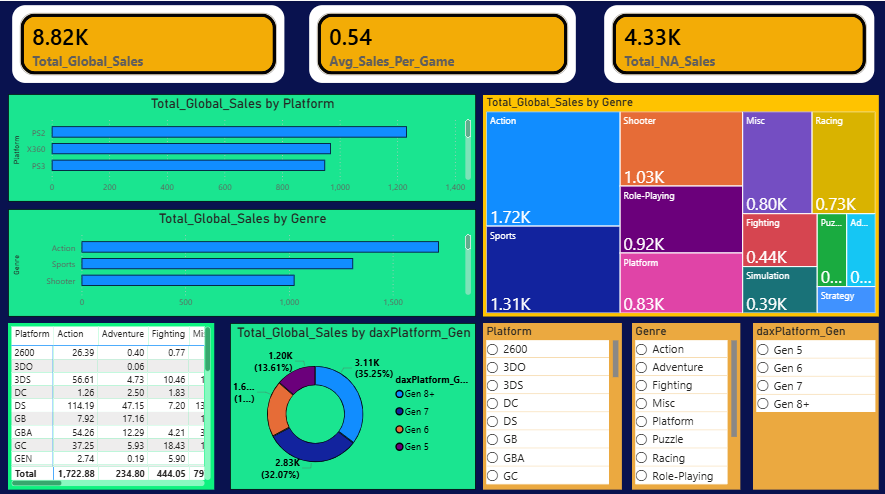

Layout of this report page (visuals, bound fields, positions):
{"tool":"powerbi","page":{"name":"Platform & Genre","canvas":[1280,720],"ordinal":3},"visuals":[{"type":"clusteredBarChart","fields":{"Category":["Dim_Platform.Platform"],"Y":["Fact_Sales.Total_Global_Sales"]},"box":[13.4,134.4,673.6,154.5],"z":0},{"type":"treemap","fields":{"Group":["Dim_Genre.Genre"],"Values":["Fact_Sales.Total_Global_Sales"]},"box":[696.4,135.2,570,319],"z":1000},{"type":"clusteredBarChart","fields":{"Y":["Fact_Sales.Total_Global_Sales"],"Category":["Dim_Genre.Genre"]},"box":[13.4,299,673.6,154.5],"z":2000},{"type":"donutChart","fields":{"Category":["Fact_Sales.daxPlatform_Gen"],"Y":["Fact_Sales.Total_Global_Sales"]},"box":[332.6,463.6,354.4,240.2],"z":3000},{"type":"pivotTable","fields":{"Rows":["Dim_Platform.Platform"],"Columns":["Dim_Genre.Genre"],"Values":["Fact_Sales.Total_Global_Sales"]},"box":[13.4,463.6,297.3,240.2],"z":4000},{"type":"cardVisual","fields":{"Data":["Fact_Sales.Total_Global_Sales"]},"box":[13.4,0,404.8,124.3],"z":5000},{"type":"cardVisual","fields":{"Data":["Fact_Sales.Avg_Sales_Per_Game"]},"box":[440.1,0,396.4,124.3],"z":6000},{"type":"cardVisual","fields":{"Data":["Fact_Sales.Total_NA_Sales"]},"box":[865.1,0,401.5,124.3],"z":7000},{"type":"listSlicer","fields":{"Values":["Dim_Platform.Platform"]},"box":[697,463.7,200.2,240.5],"z":8000},{"type":"listSlicer","fields":{"Values":["Dim_Genre.Genre"]},"box":[912.1,463.6,156.2,240.2],"z":9000},{"type":"listSlicer","fields":{"Values":["Fact_Sales.daxPlatform_Gen"]},"box":[1085.1,463.6,181.4,240.2],"z":10000}]}

Visuals, with their boxes in screenshot pixels (x1, y1, x2, y2), scaled from the page's 1280x720 canvas onto the 885x494 screenshot:
clusteredBarChart - Dim_Platform.Platform x Fact_Sales.Total_Global_Sales: 9,92,475,198
treemap - Dim_Genre.Genre x Fact_Sales.Total_Global_Sales: 481,93,876,312
clusteredBarChart - Fact_Sales.Total_Global_Sales x Dim_Genre.Genre: 9,205,475,311
donutChart - Fact_Sales.daxPlatform_Gen x Fact_Sales.Total_Global_Sales: 230,318,475,483
pivotTable - Dim_Platform.Platform x Dim_Genre.Genre: 9,318,215,483
cardVisual - Fact_Sales.Total_Global_Sales: 9,0,289,85
cardVisual - Fact_Sales.Avg_Sales_Per_Game: 304,0,578,85
cardVisual - Fact_Sales.Total_NA_Sales: 598,0,876,85
listSlicer - Dim_Platform.Platform: 482,318,620,483
listSlicer - Dim_Genre.Genre: 631,318,739,483
listSlicer - Fact_Sales.daxPlatform_Gen: 750,318,876,483
